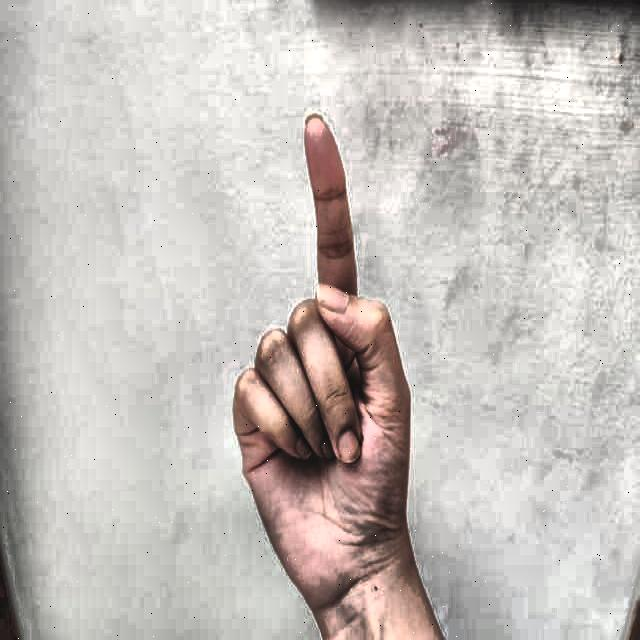U: (202, 80, 432, 584)
